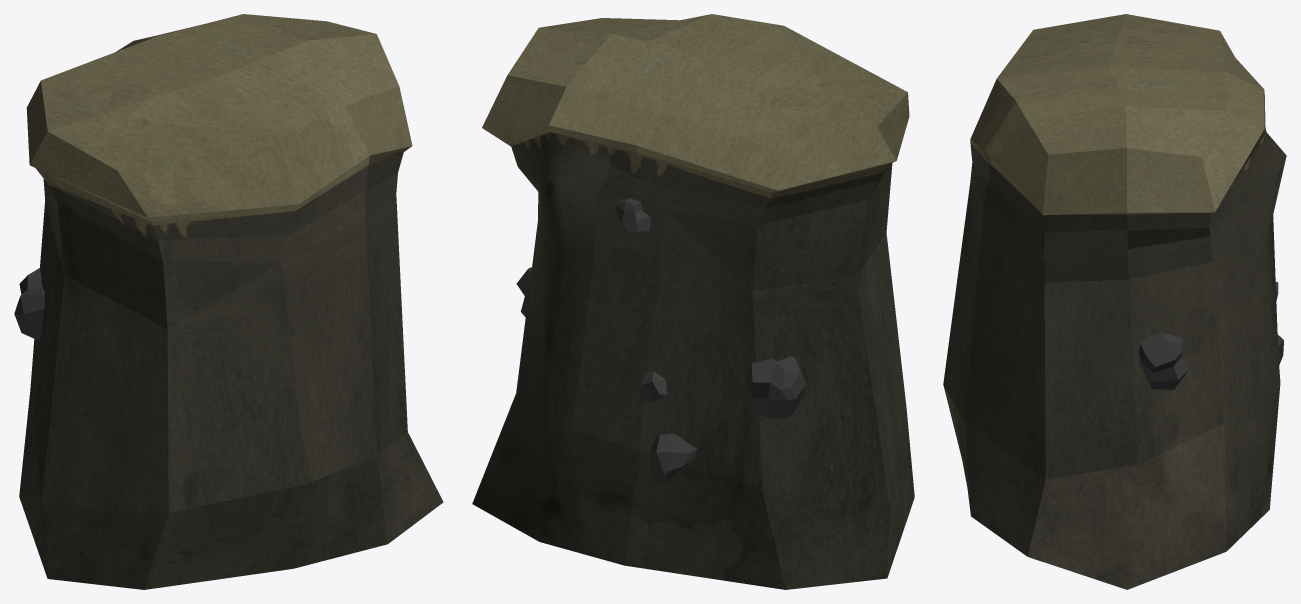
File: platform_grass.fbx
3 views of the same model, side by side, from view 1: azimuth 30°, elevation 25°; view 2: azimuth 150°, elevation 25°; view 3: azimuth 270°, elevation 25° (orthographic). The views are drawn at different scales.
Parts seen in each view (by area): view 1: ground, rock; view 2: ground, rock; view 3: ground, rock.
Boxes of the visible parts, x1,y1,x2,y2 form: ground: (19,14,443,589); rock: (14,268,44,340); ground: (472,14,914,589); rock: (516,198,805,483); ground: (943,14,1286,589); rock: (1139,282,1283,389).
Size of the model in its own units: 6.75 by 7.91 by 5.62.
